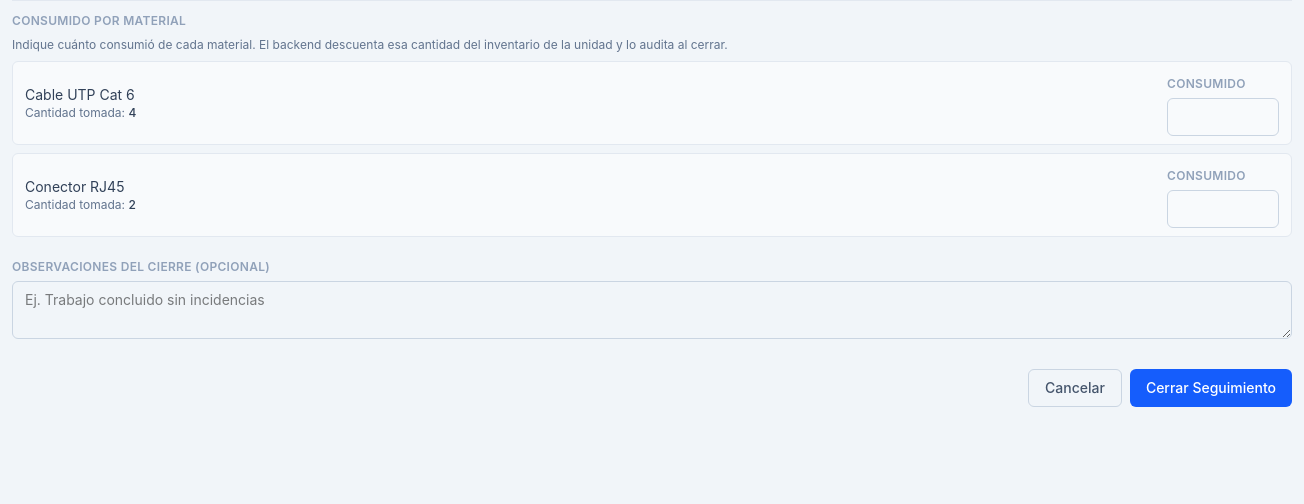
Scenario: SeguimientoCierreForm validación › REQ-CONSUMO-001: sin capturar nada no envía y nombra cada material faltante
Click the button "Cerrar Seguimiento": {"x": 1211, "y": 388} [1130, 369, 1292, 407]
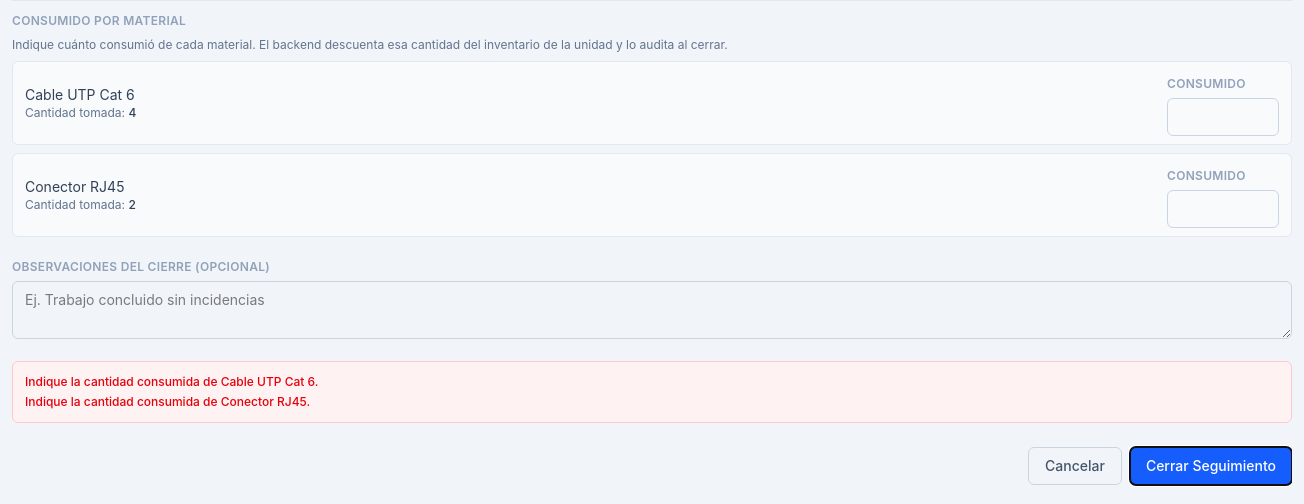
Check: the text "Indique la cantidad consumida de Cable UTP Cat 6." is shown, box [25, 374, 318, 389]
Check: the text "Indique la cantidad consumida de Conector RJ45." is shown, box [25, 394, 310, 409]
